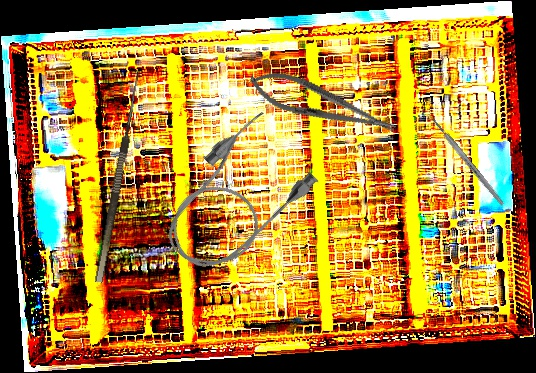Cannula: (143, 103, 327, 290)
Hook Surgical: (83, 68, 144, 283)
Needle Holder: (244, 62, 401, 147)
Scalpel Handle: (431, 117, 505, 207)
